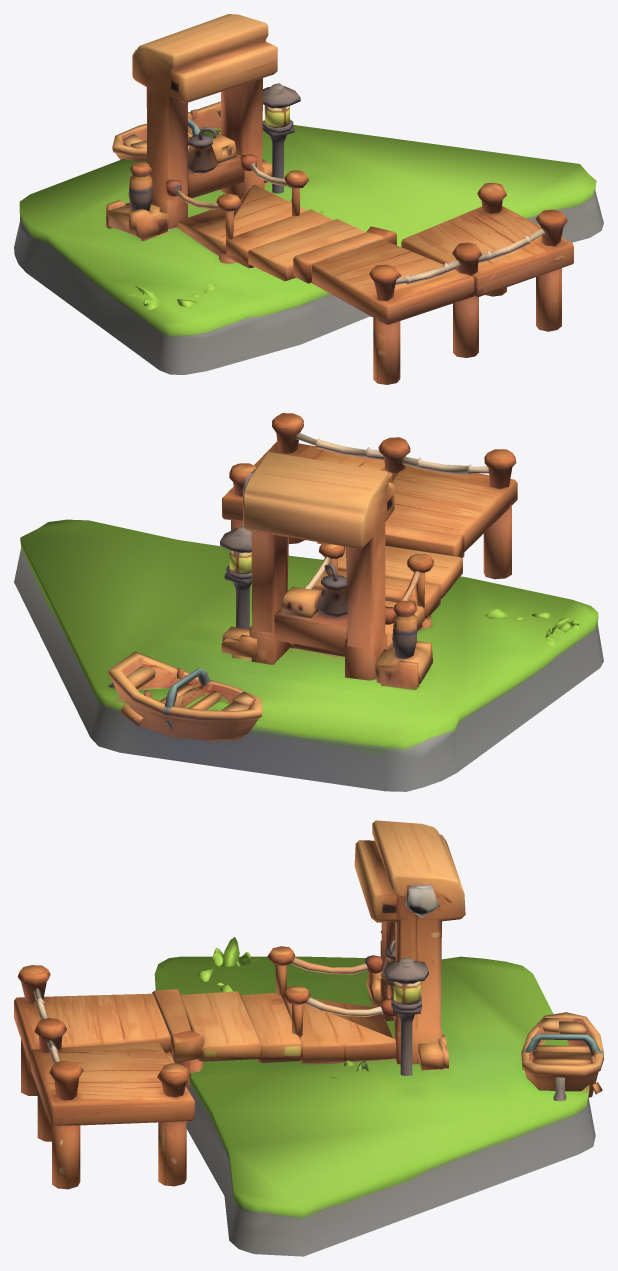
The model's file is muelle.glb.
3 views of the same model, one above another, from view 1: azimuth 30°, elevation 25°; view 2: azimuth 150°, elevation 25°; view 3: azimuth 270°, elevation 25° (orthographic). The views are drawn at different scales.
Visible parts, largest first — view 1: tripo_node_3ee2a5e4-8f5d-4efd-b5cb-99de3f0bcb7e; view 2: tripo_node_3ee2a5e4-8f5d-4efd-b5cb-99de3f0bcb7e; view 3: tripo_node_3ee2a5e4-8f5d-4efd-b5cb-99de3f0bcb7e.
Part boxes in pixels (x1=…): tripo_node_3ee2a5e4-8f5d-4efd-b5cb-99de3f0bcb7e: x1=14, y1=14, x2=603, y2=384; tripo_node_3ee2a5e4-8f5d-4efd-b5cb-99de3f0bcb7e: x1=14, y1=413, x2=603, y2=791; tripo_node_3ee2a5e4-8f5d-4efd-b5cb-99de3f0bcb7e: x1=14, y1=820, x2=603, y2=1256.
Size of the model in its own units: 0.998 by 0.4395 by 0.9746.
1 material, 1 textured.
